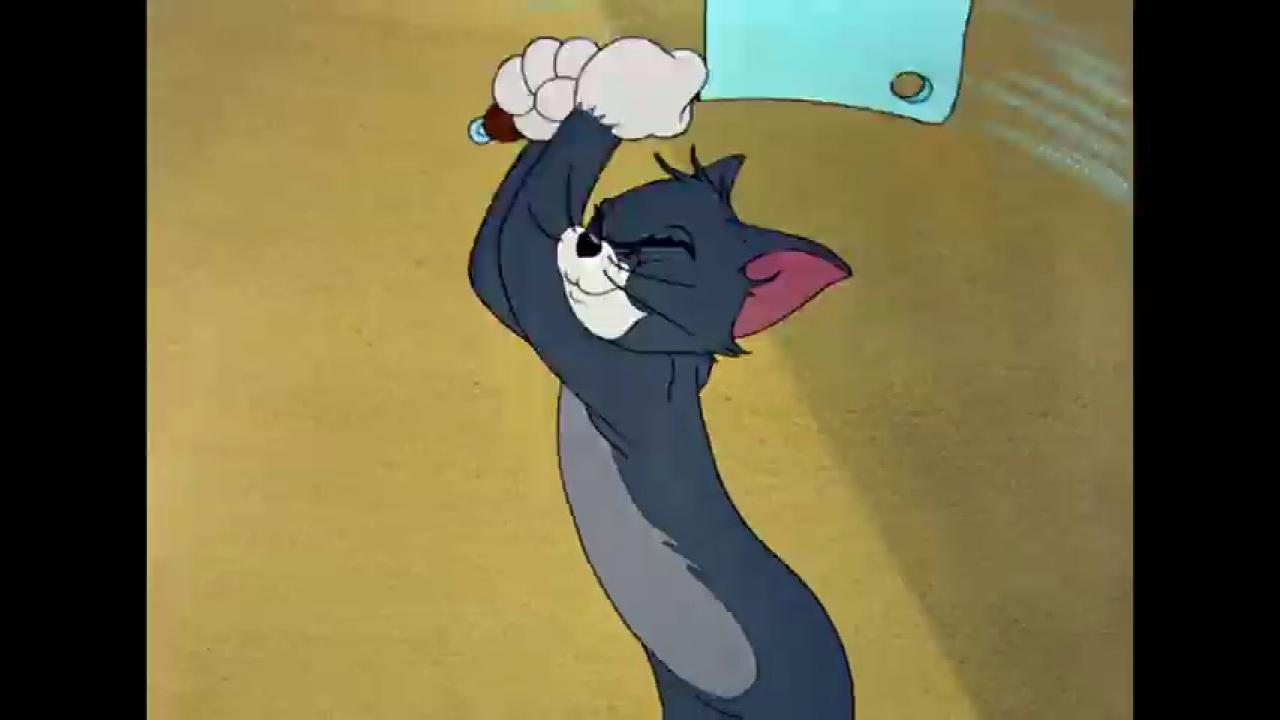Tom: (463, 31, 854, 720)
